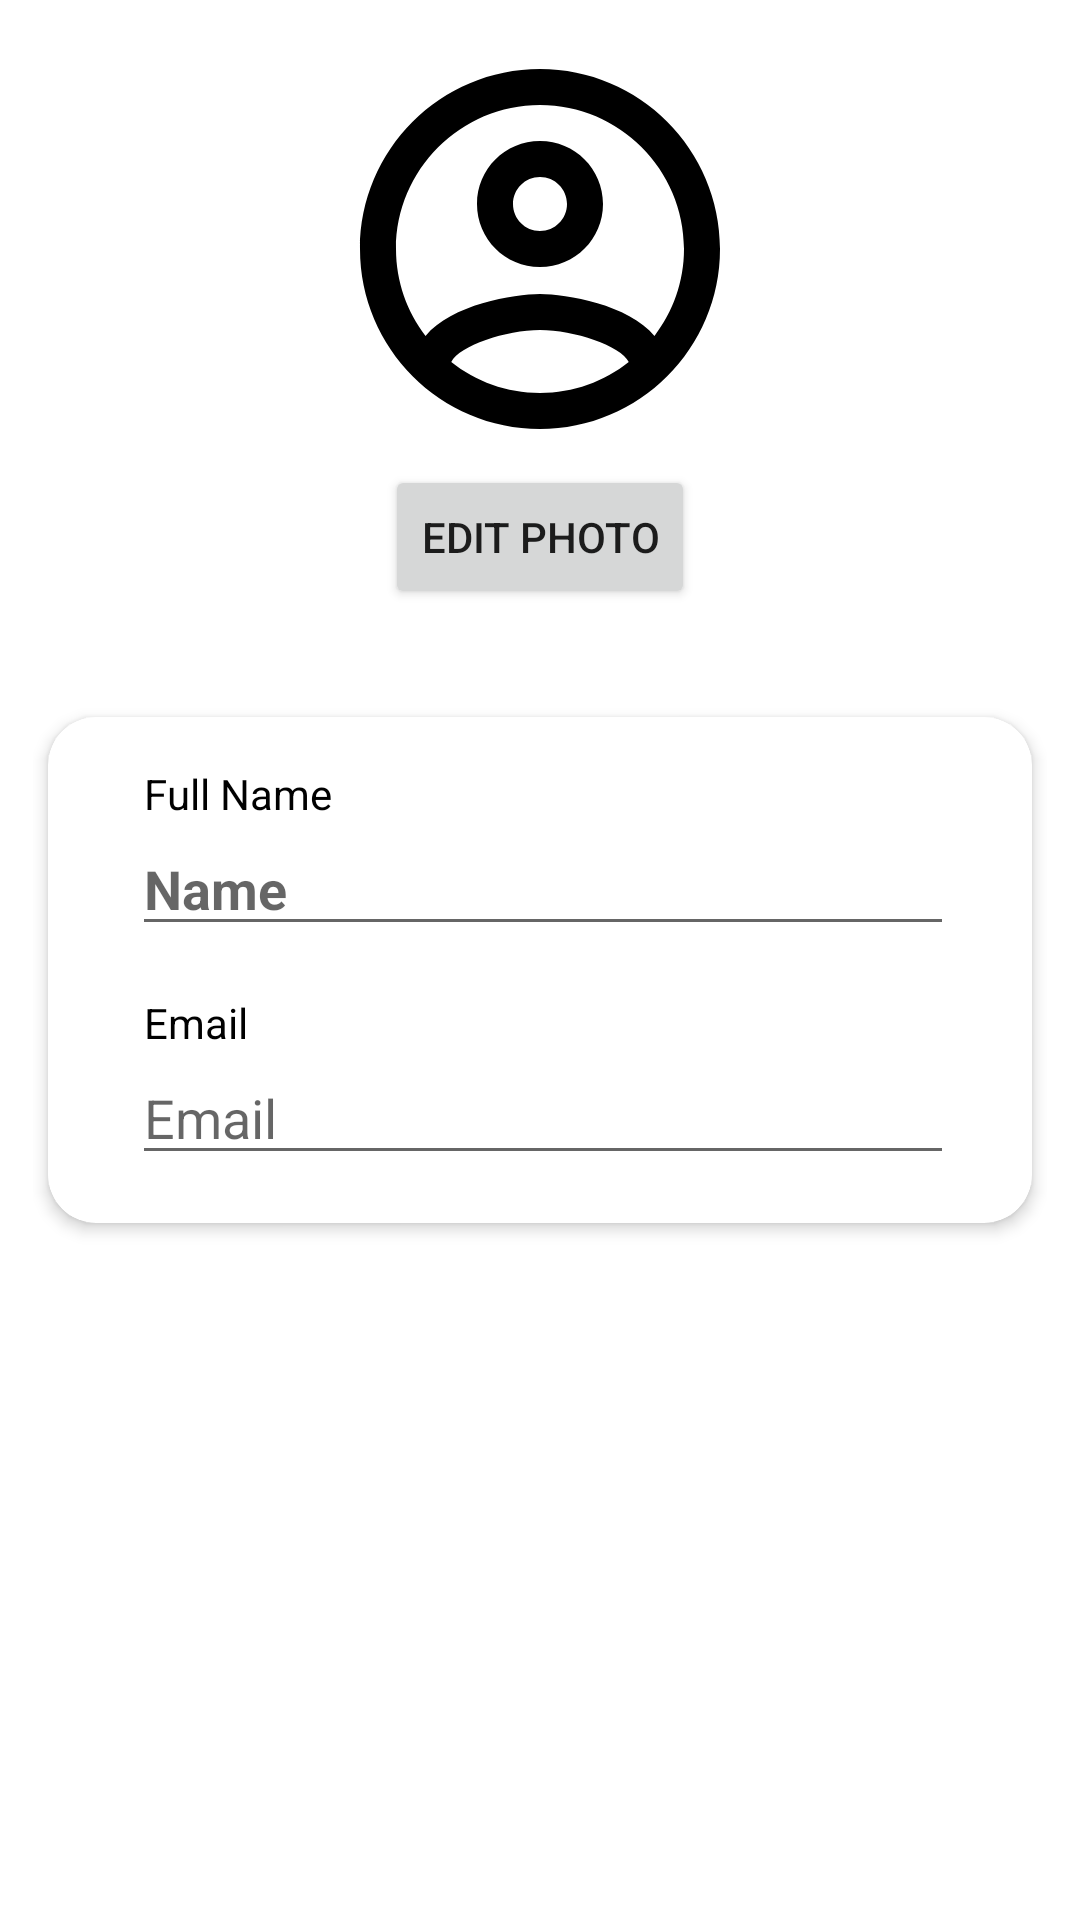

Icons on this 1080x1920 Android screen, each with the point to tap as [x,y]:
account circle: [540,249]
